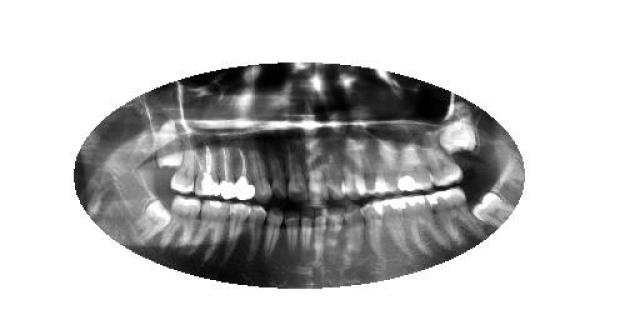Fillings: (429, 187, 485, 245), (189, 200, 231, 261), (398, 194, 434, 260), (410, 195, 450, 254), (380, 196, 414, 264), (396, 141, 434, 195)
Implant: (232, 141, 256, 201), (216, 141, 239, 201), (192, 142, 216, 198)
Restorations: (134, 198, 174, 244), (468, 189, 514, 229), (154, 119, 185, 171), (438, 120, 480, 158)
